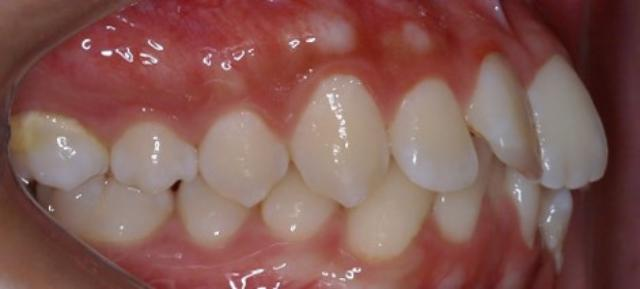canine class I: (264, 67, 432, 267)
molar class III 1/2: (8, 117, 172, 246)
